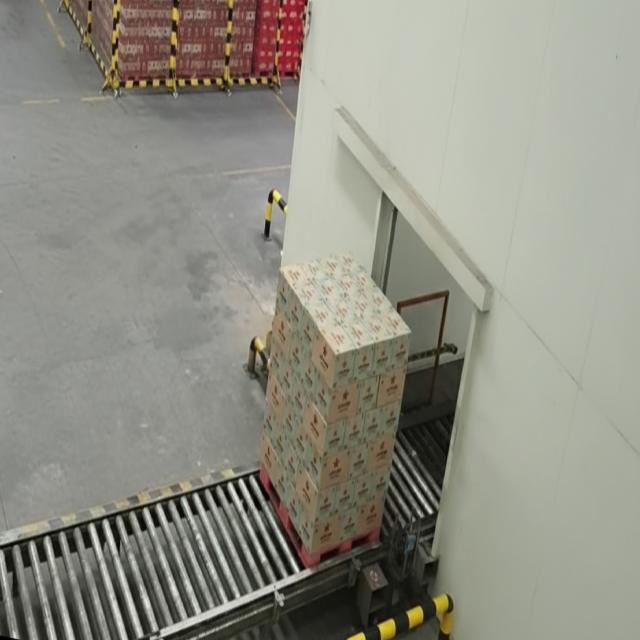pallet: (253, 253, 417, 576)
